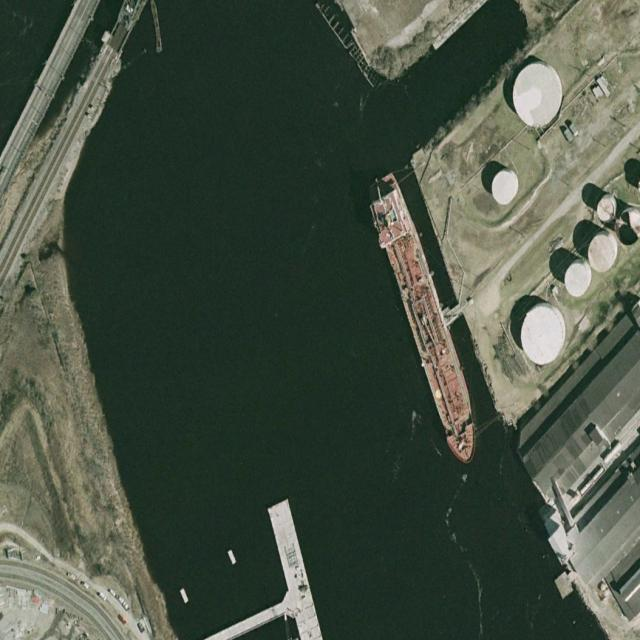Cargo: (362, 164, 487, 475)
